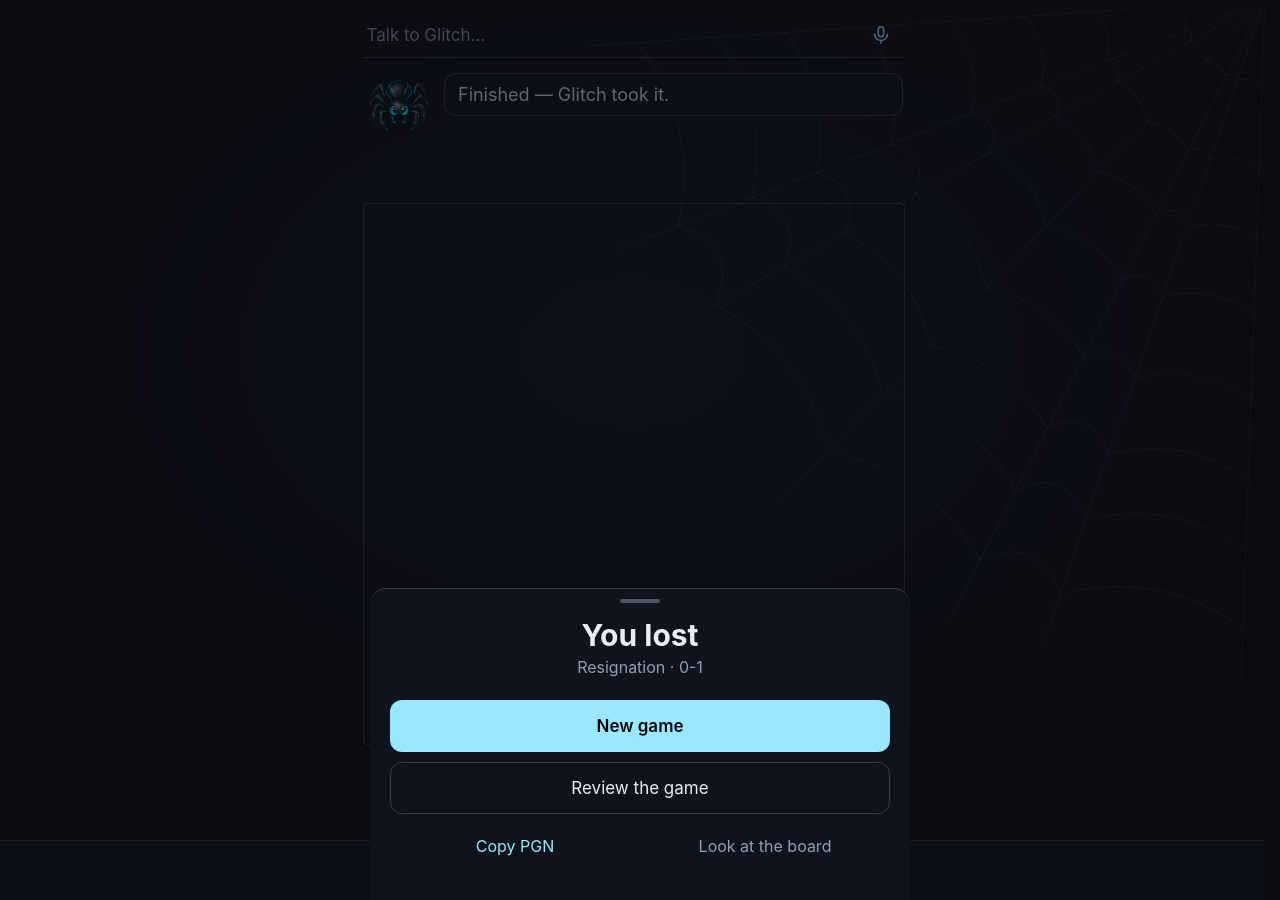
Test case: draw button › is disabled once the game is over
The image size is (1280, 900).
Step 1. Click the button "Look at the board" → (765, 846), box [640,822,890,870]
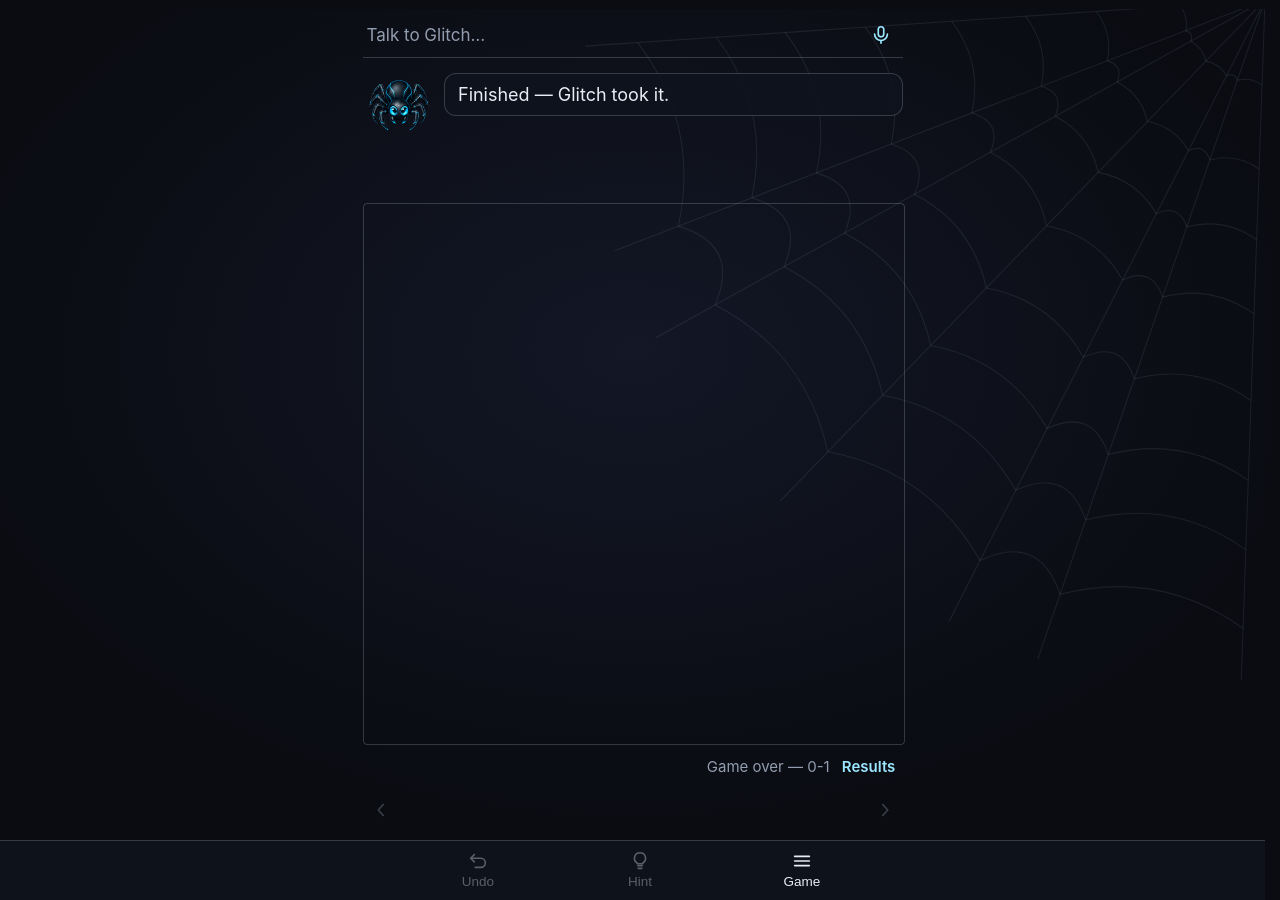
Step 2. Click the button "Game" → (802, 870), box [721,840,883,899]
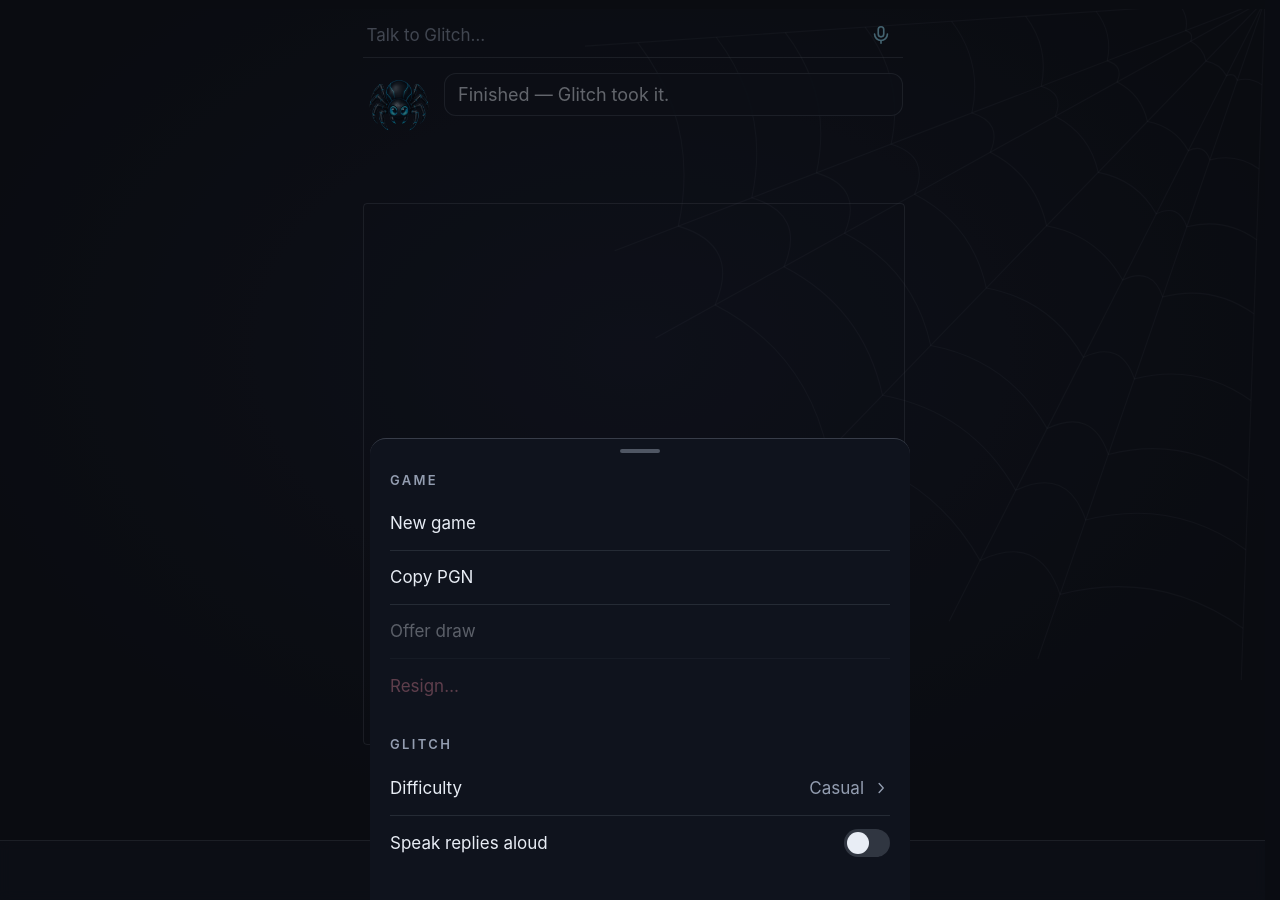
expect the button "Offer draw" is disabled: met, box [390,605,890,659]
expect the button "Resign…" is disabled: met, box [390,659,890,713]
